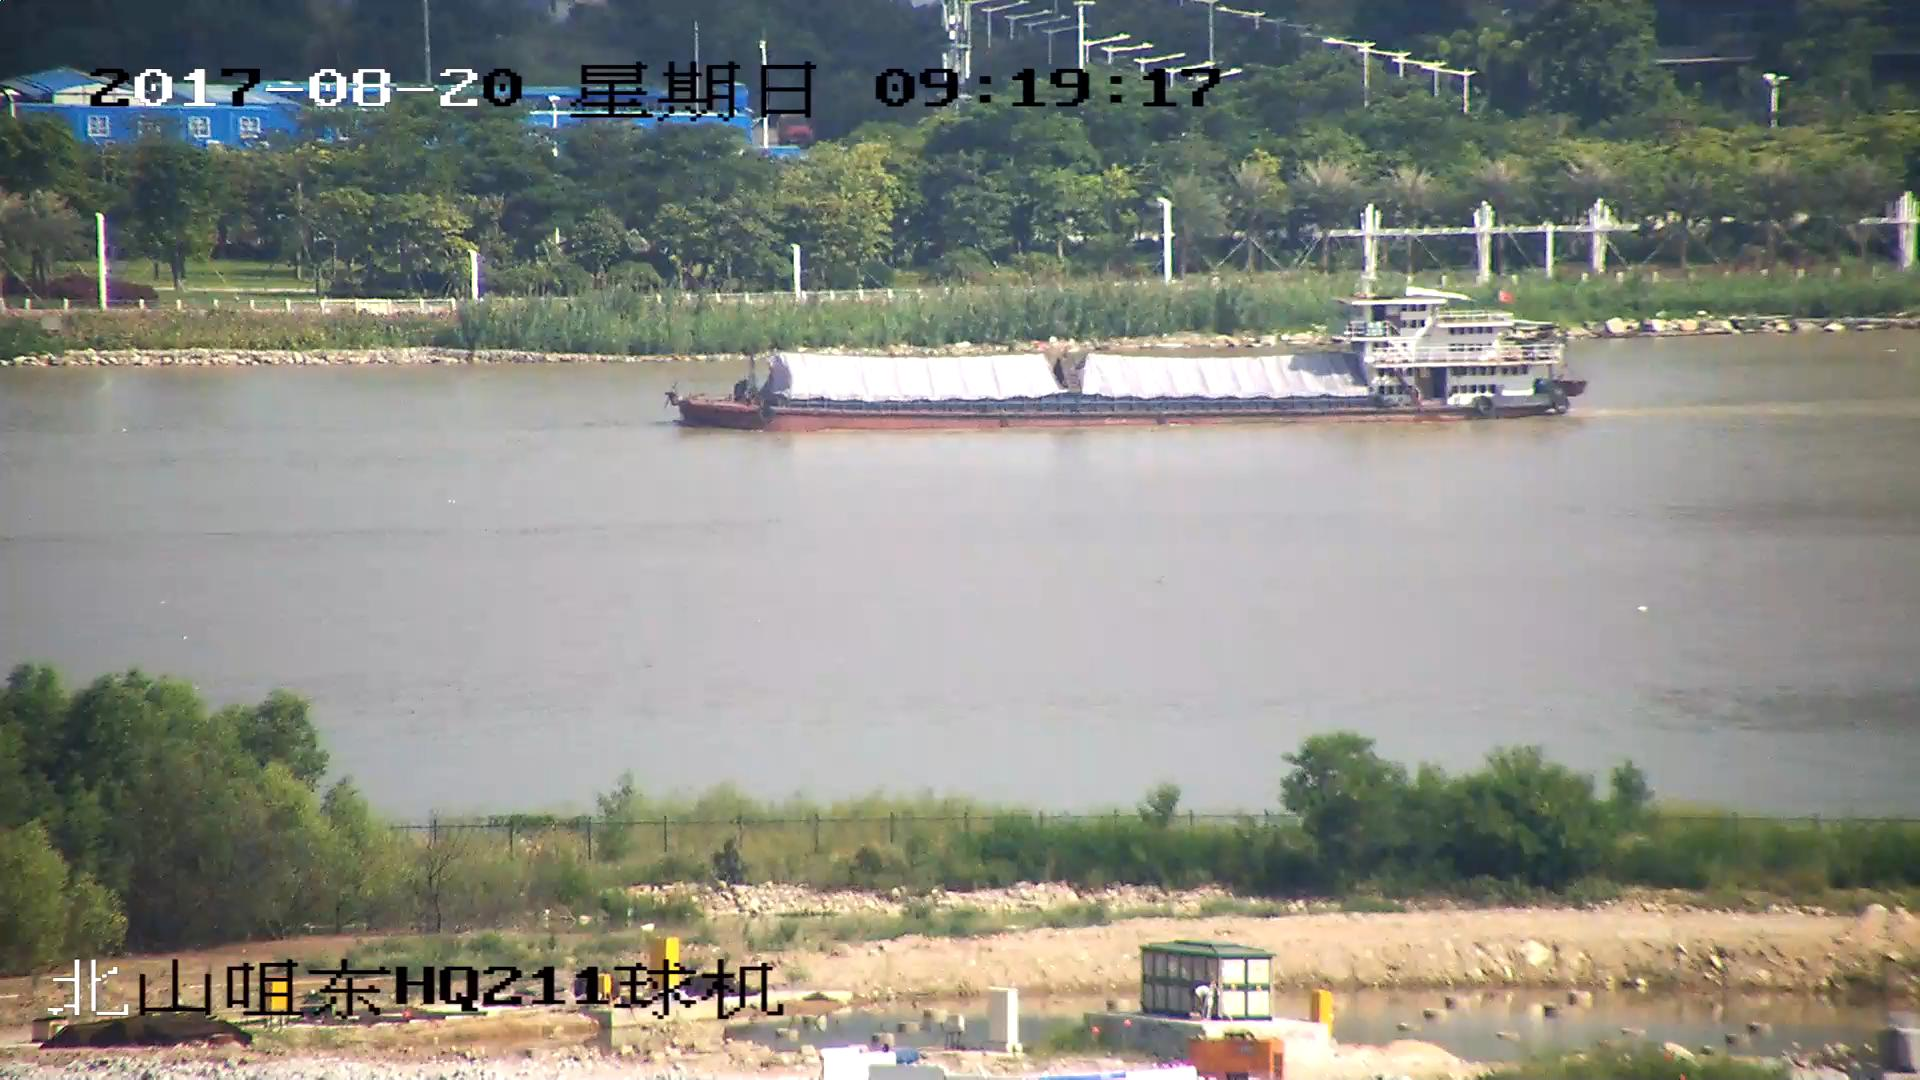general cargo ship: (671, 286, 1587, 428)
